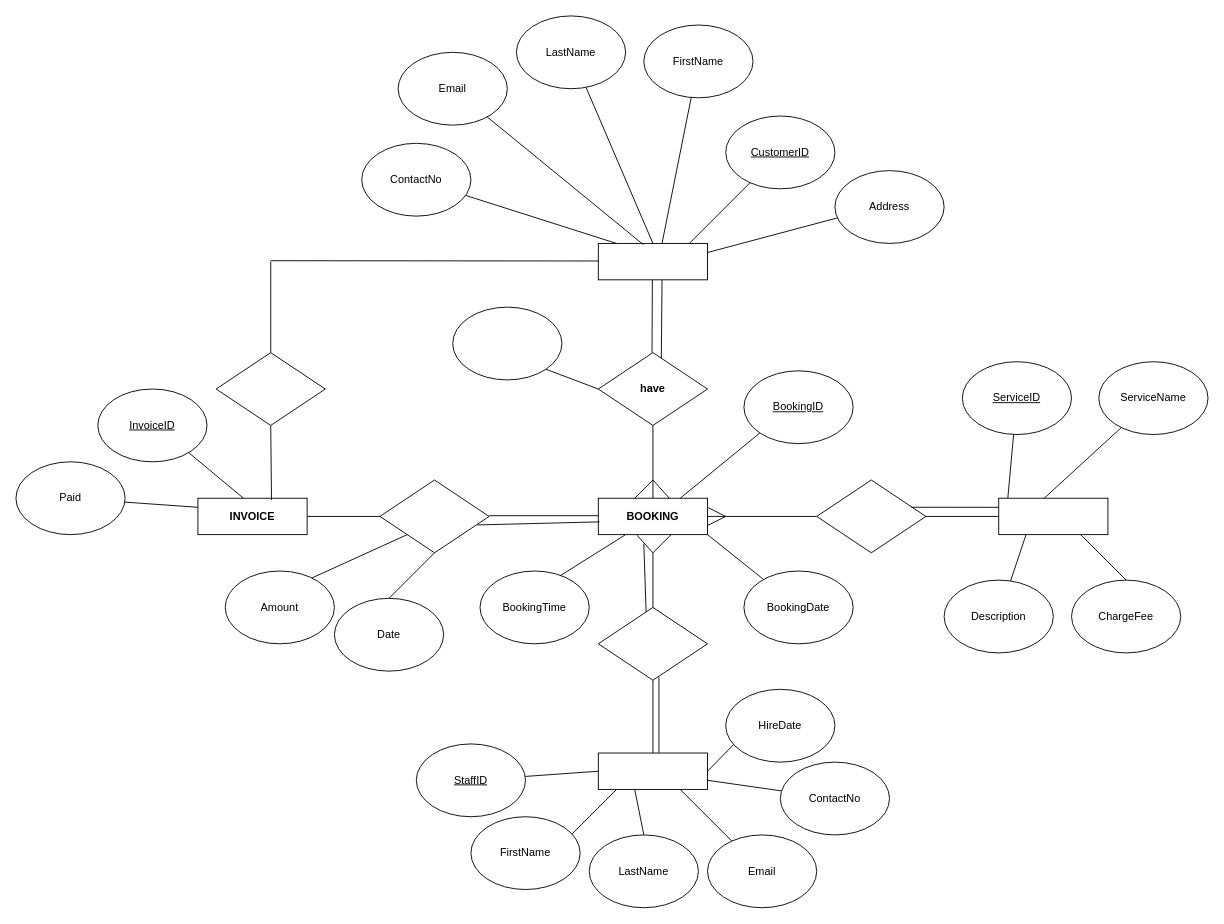
Image size: 1224x924. Some labels were removed from this diagram. The centre of each missing label's shape, as x and y in pixels:
"CUSTOMER" goes at pixel 652 261.
"generate" goes at pixel 434 516.
"handle" goes at pixel 652 643.
"reviews" goes at pixel 270 388.
"SERVICE" goes at pixel 1053 516.
"STAFF" goes at pixel 652 770.
"Status" goes at pixel 507 343.
"used" goes at pixel 871 516.
